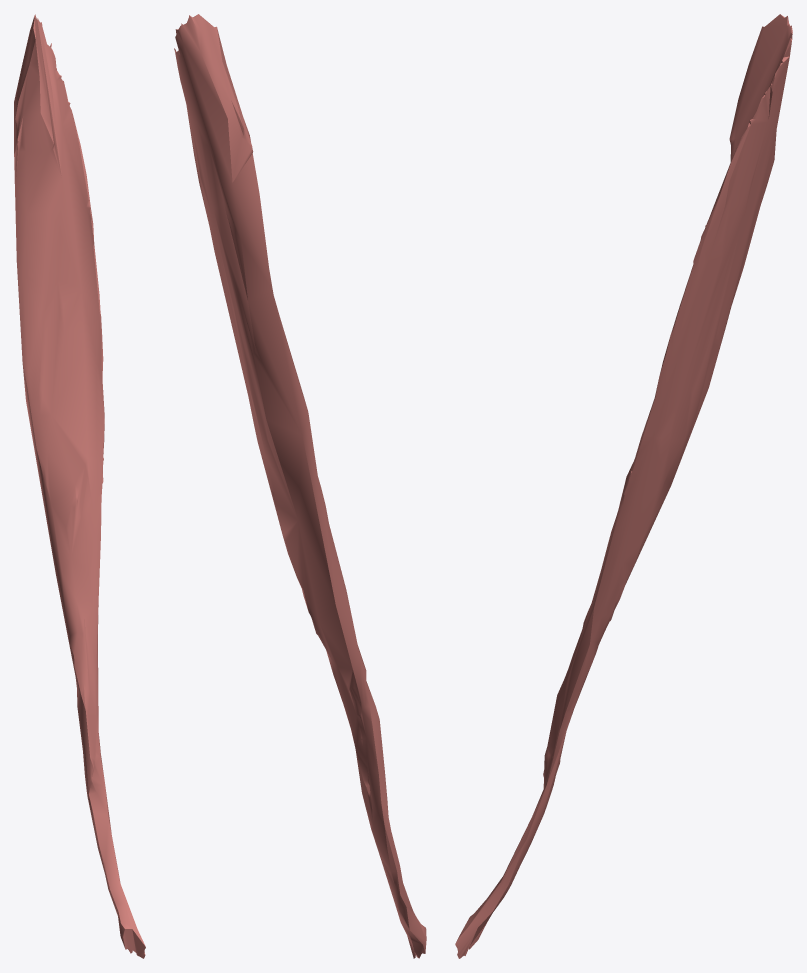
File: fma38507_fj1517.glb
The picture shows the model from 3 angles, left to right: view 1: azimuth 30°, elevation 25°; view 2: azimuth 150°, elevation 25°; view 3: azimuth 270°, elevation 25°; orthographic projection. The views are drawn at different scales.
Visible parts, largest first — view 1: FMA38507_FJ1517; view 2: FMA38507_FJ1517; view 3: FMA38507_FJ1517.
Boxes of the visible parts, x1,y1,x2,y2 form: FMA38507_FJ1517: (14,14,145,958); FMA38507_FJ1517: (174,14,426,958); FMA38507_FJ1517: (455,14,792,958).
Size of the model in its own units: 0.0168 by 0.1828 by 0.0581.
